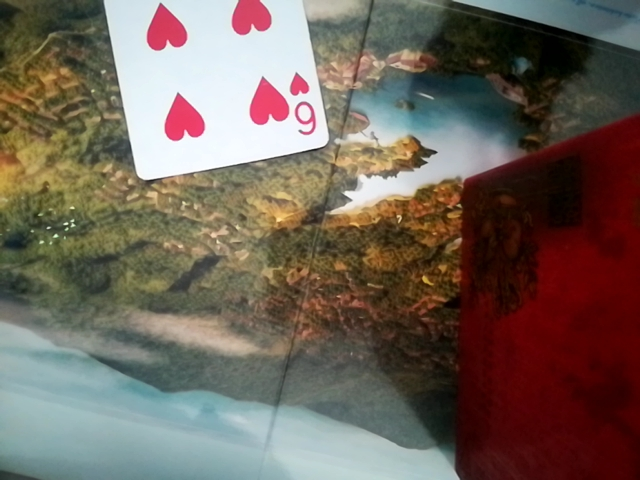hx 6: (86, 0, 329, 181)
